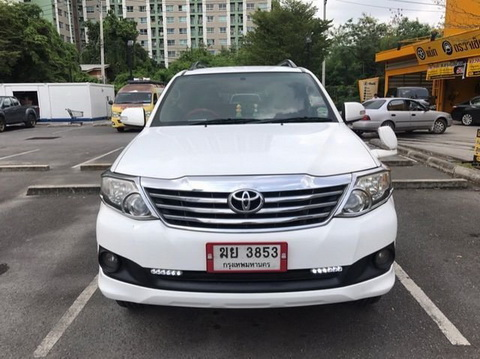numplate: (205, 241, 286, 273)
